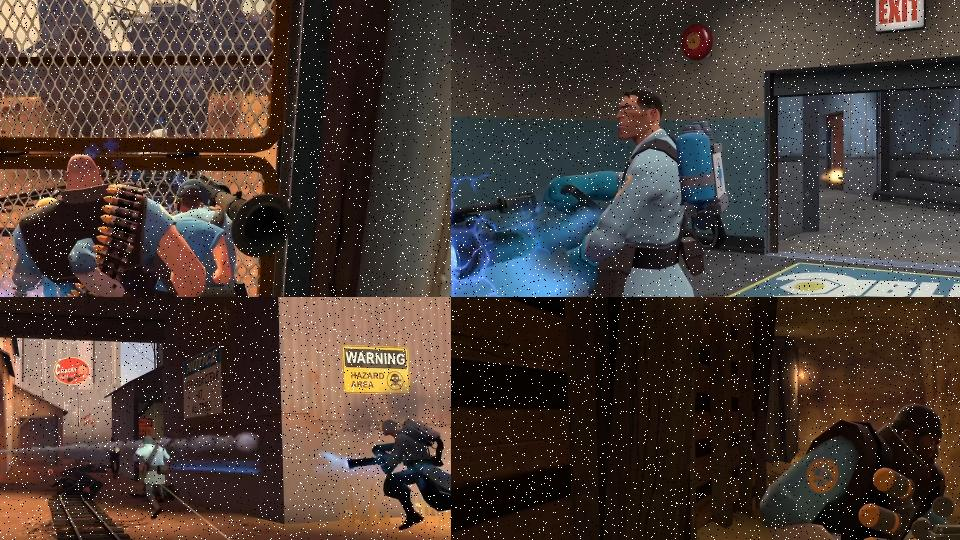Enemy: (451, 84, 746, 297), (9, 153, 206, 297), (758, 405, 960, 540), (143, 175, 294, 297), (345, 418, 451, 539), (132, 435, 173, 520)
